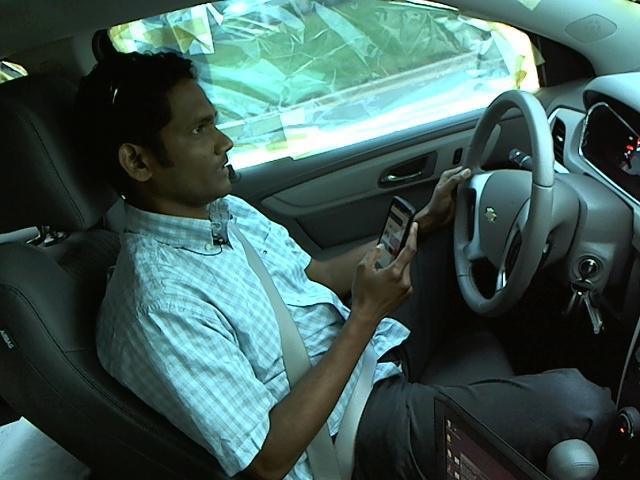PhoneUse: (366, 188, 425, 283)
